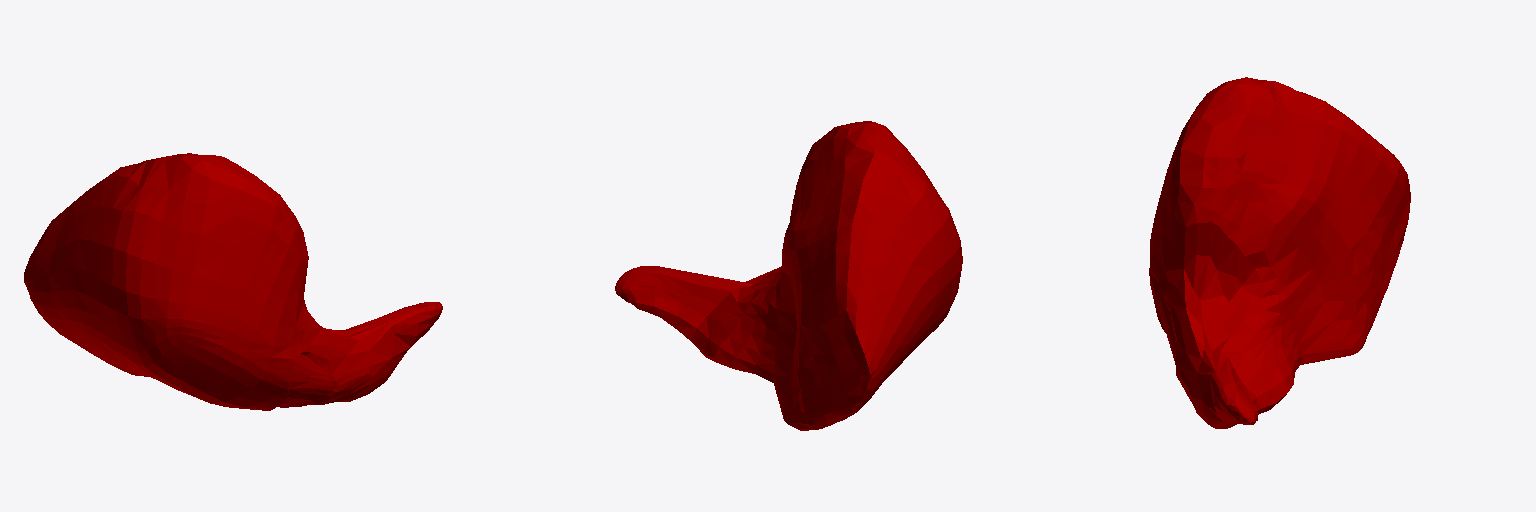
Rendered from liver_gastro.obj.
3 renders of one model, left to right at view 1: azimuth 30°, elevation 25°; view 2: azimuth 150°, elevation 25°; view 3: azimuth 270°, elevation 25°, orthographic.
Parts seen in each view (by area): view 1: liver_gastro_liver.007; view 2: liver_gastro_liver.007; view 3: liver_gastro_liver.007.
Boxes of the visible parts, box(x1,y1,x2,y2) form: liver_gastro_liver.007: box(24, 153, 442, 410); liver_gastro_liver.007: box(615, 121, 962, 430); liver_gastro_liver.007: box(1149, 77, 1410, 428).
Bounding box in the file's own units: 12.82 × 9.82 × 8.62.